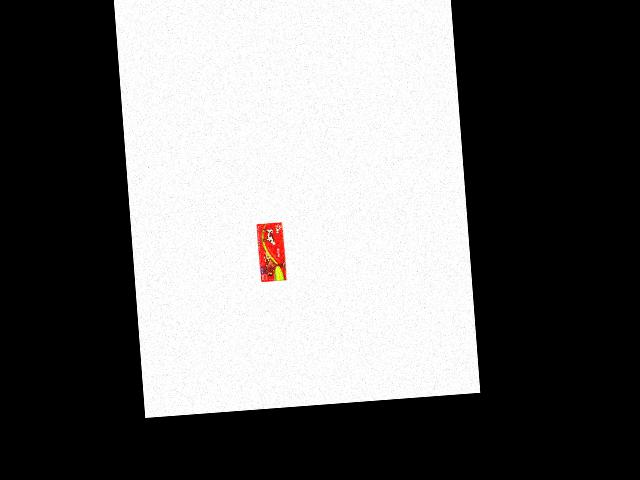chocolate: (250, 218, 288, 283)
